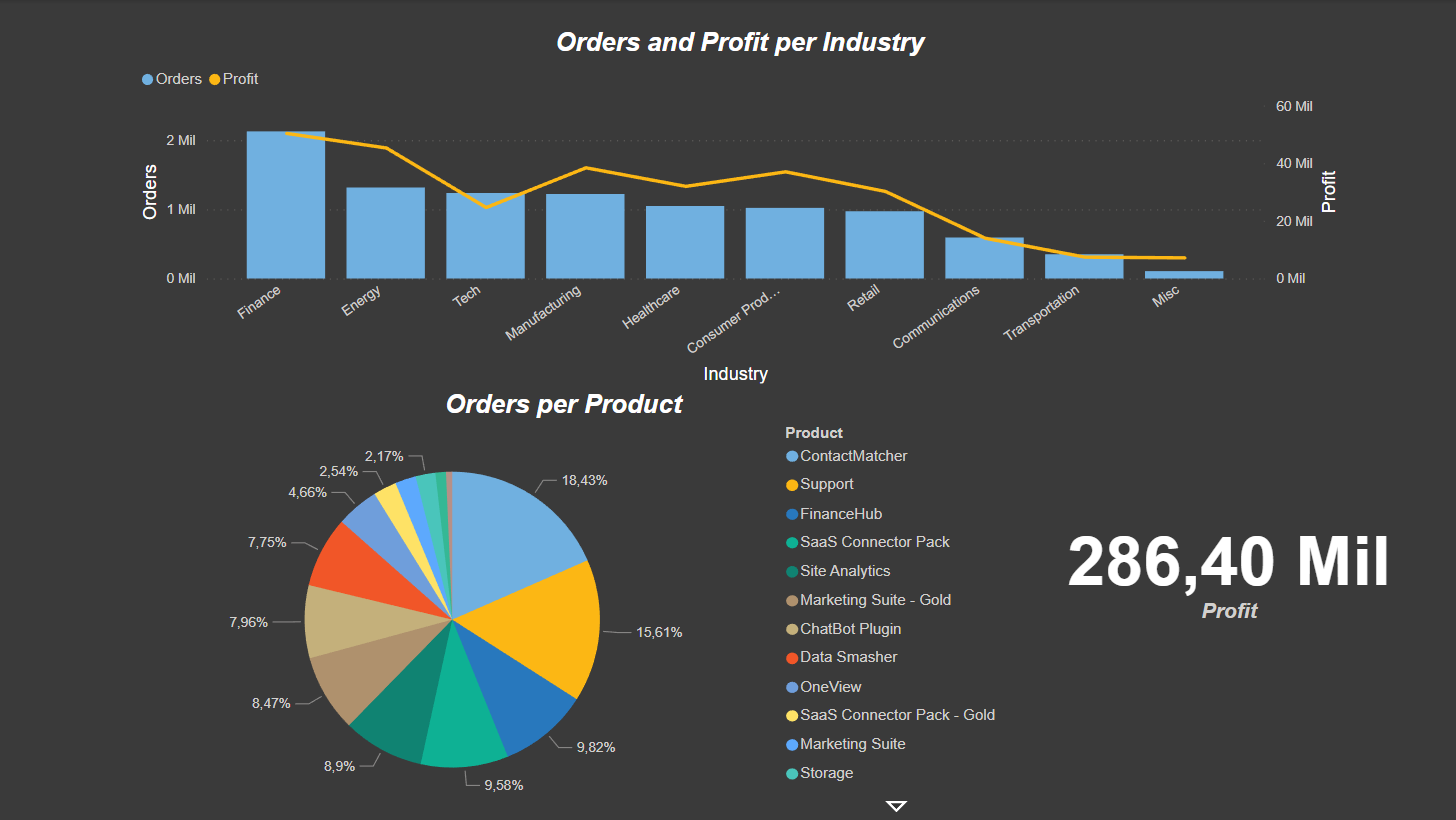

What the dashboard file says about the page in this screenshot:
{"tool":"powerbi","page":{"name":"report01","canvas":[1280,720],"ordinal":0},"visuals":[{"type":"pieChart","title":"Orders per Product","fields":{"Category":["saascleaned.Product"],"Y":["CountNonNull(saascleaned.Order ID)"]},"box":[102.2,341.7,788.4,378.6],"z":0},{"type":"lineClusteredColumnComboChart","title":"Orders and Profit per Industry","fields":{"Category":["saascleaned.Industry"],"Y":["CountNonNull(saascleaned.Order ID)"],"Y2":["Sum(saascleaned.Profit)"]},"box":[120.3,23.7,1061.6,317.9],"z":1000},{"type":"card","fields":{"Values":["Sum(saascleaned.Profit)"]},"box":[897.4,383.7,367,229.2],"z":2000}]}

Visuals, with their boxes in screenshot pixels (x1, y1, x2, y2), scaled from the page's 1280x720 canvas onto the 1456x820 screenshot:
"Orders per Product" pieChart: bbox=[116, 389, 1013, 819]
"Orders and Profit per Industry" lineClusteredColumnComboChart: bbox=[137, 27, 1344, 389]
card - Sum(saascleaned.Profit): bbox=[1021, 437, 1438, 698]
